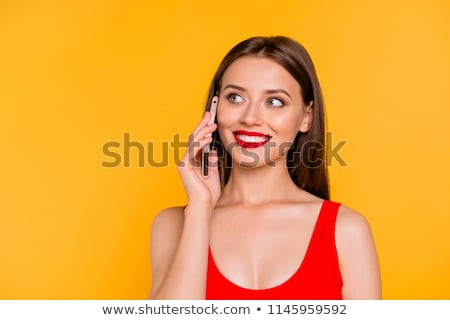phone: (195, 89, 218, 180)
talk: (172, 80, 302, 186)
